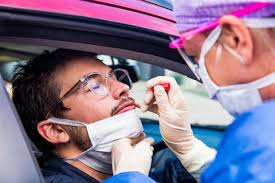Gloves: (142, 74, 210, 168), (109, 133, 156, 176)
mask_weared_incorrect: (69, 63, 146, 175)
with_mask: (187, 28, 264, 116)
